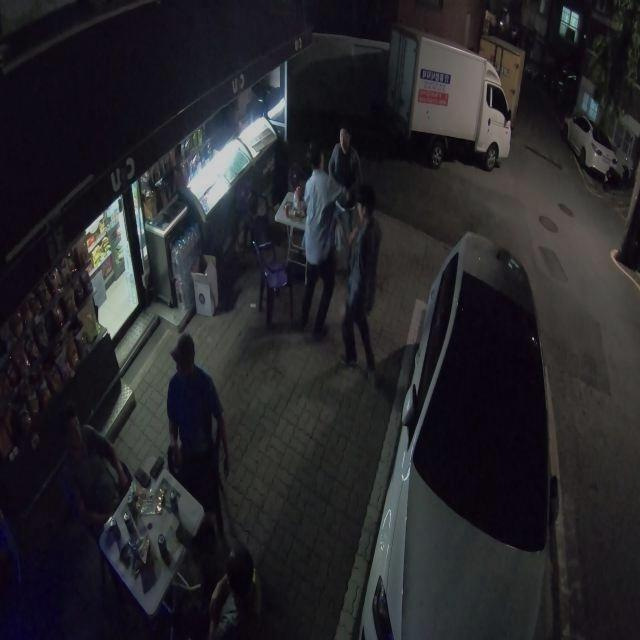fight: (290, 126, 373, 340)
non-fight: (163, 335, 252, 513), (330, 179, 383, 390), (48, 400, 131, 527), (192, 532, 262, 640)
